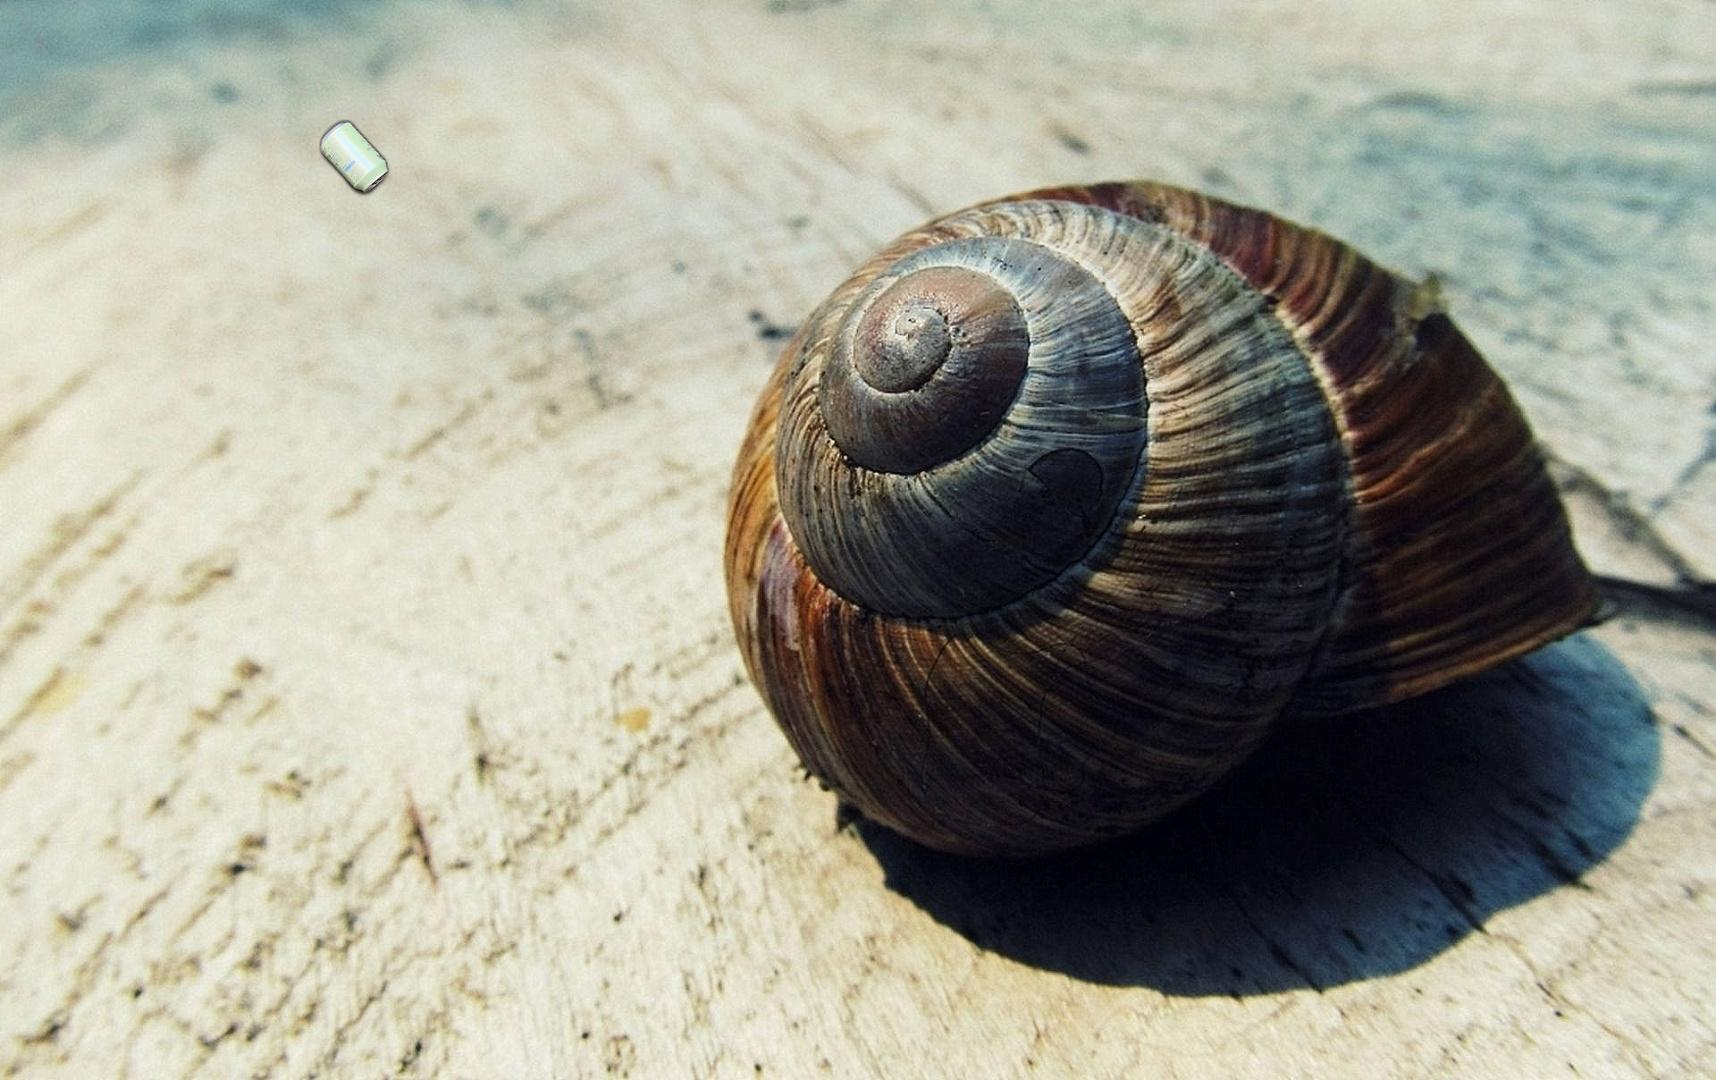metal-cans: (259, 116, 472, 607)
